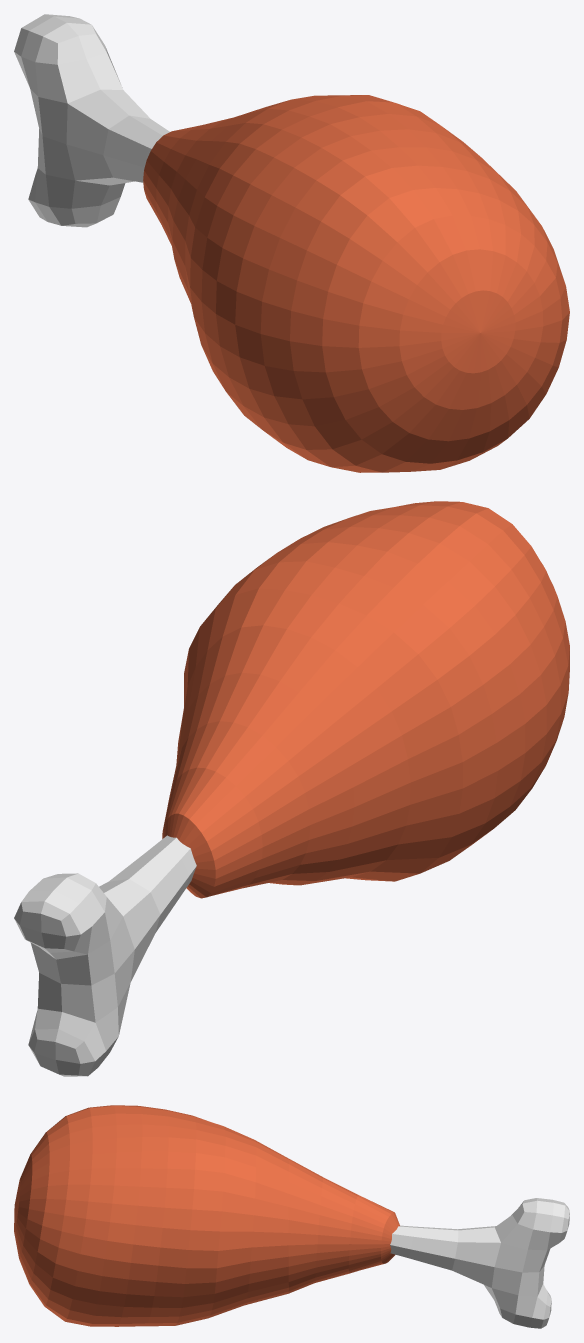
File: Chiken.fbx
The picture shows the model from 3 angles, top to bottom: view 1: azimuth 30°, elevation 25°; view 2: azimuth 150°, elevation 25°; view 3: azimuth 270°, elevation 25°; orthographic projection. The views are drawn at different scales.
Visible parts, largest first — view 1: Сфера, Цилиндр, Сфера.001; view 2: Сфера, Сфера.001, Цилиндр; view 3: Сфера, Цилиндр, Сфера.001.
Boxes of the visible parts, x1,y1,x2,y2 form: Сфера: (172, 95, 569, 472); Цилиндр: (14, 14, 169, 227); Сфера.001: (143, 109, 259, 258); Сфера: (178, 501, 569, 885); Сфера.001: (162, 672, 354, 898); Цилиндр: (14, 835, 196, 1076); Сфера: (14, 1105, 288, 1326); Цилиндр: (390, 1198, 569, 1328); Сфера.001: (288, 1158, 399, 1293).
Size of the model in its own units: 156 by 161 by 400.
